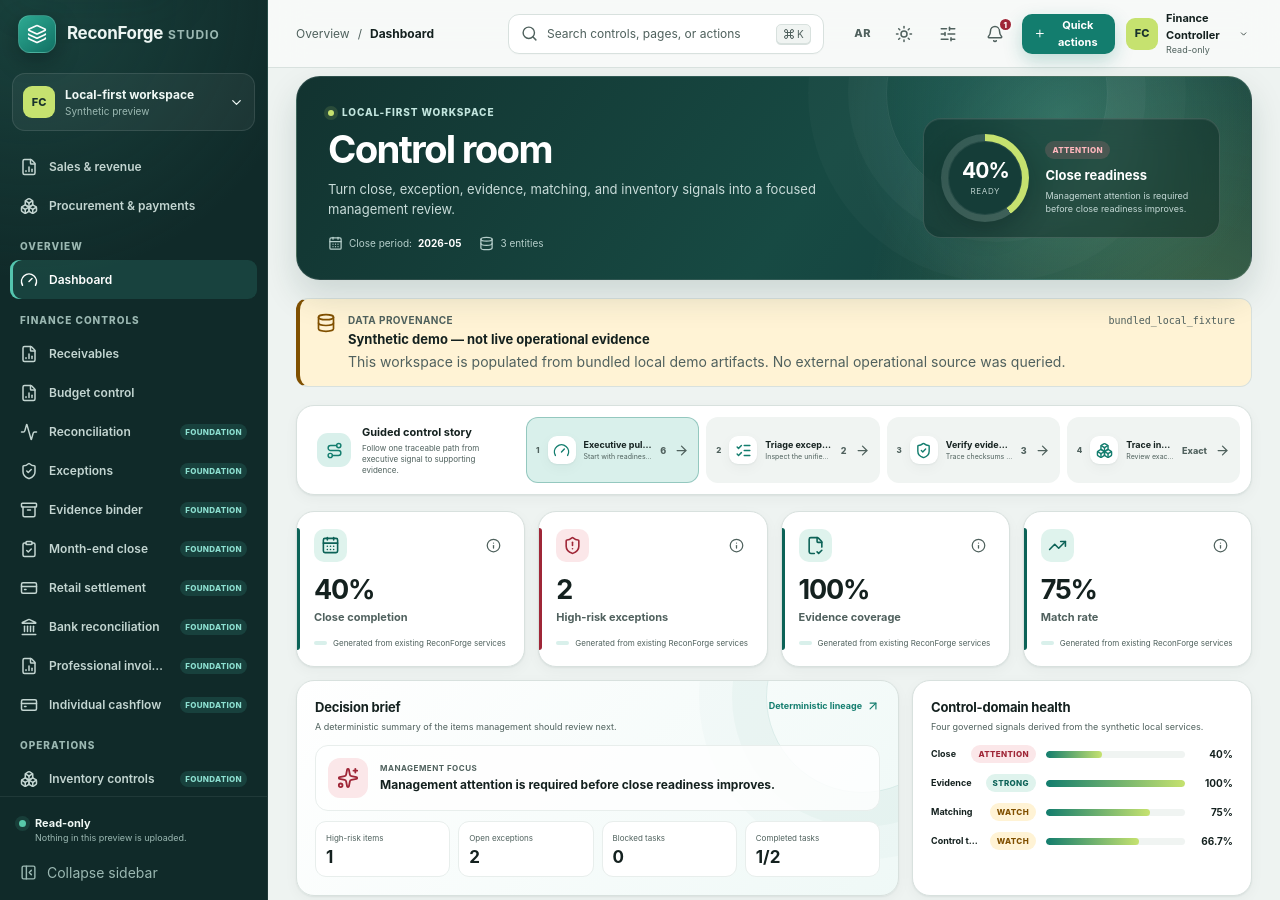
Test: navigates to the governed exception review boundary without a synthetic fallback
(page scrolled)
Click the button "Exceptions Foundation" at (134, 470), box x1=10 y1=451 x2=257 y2=490
(page scrolled)
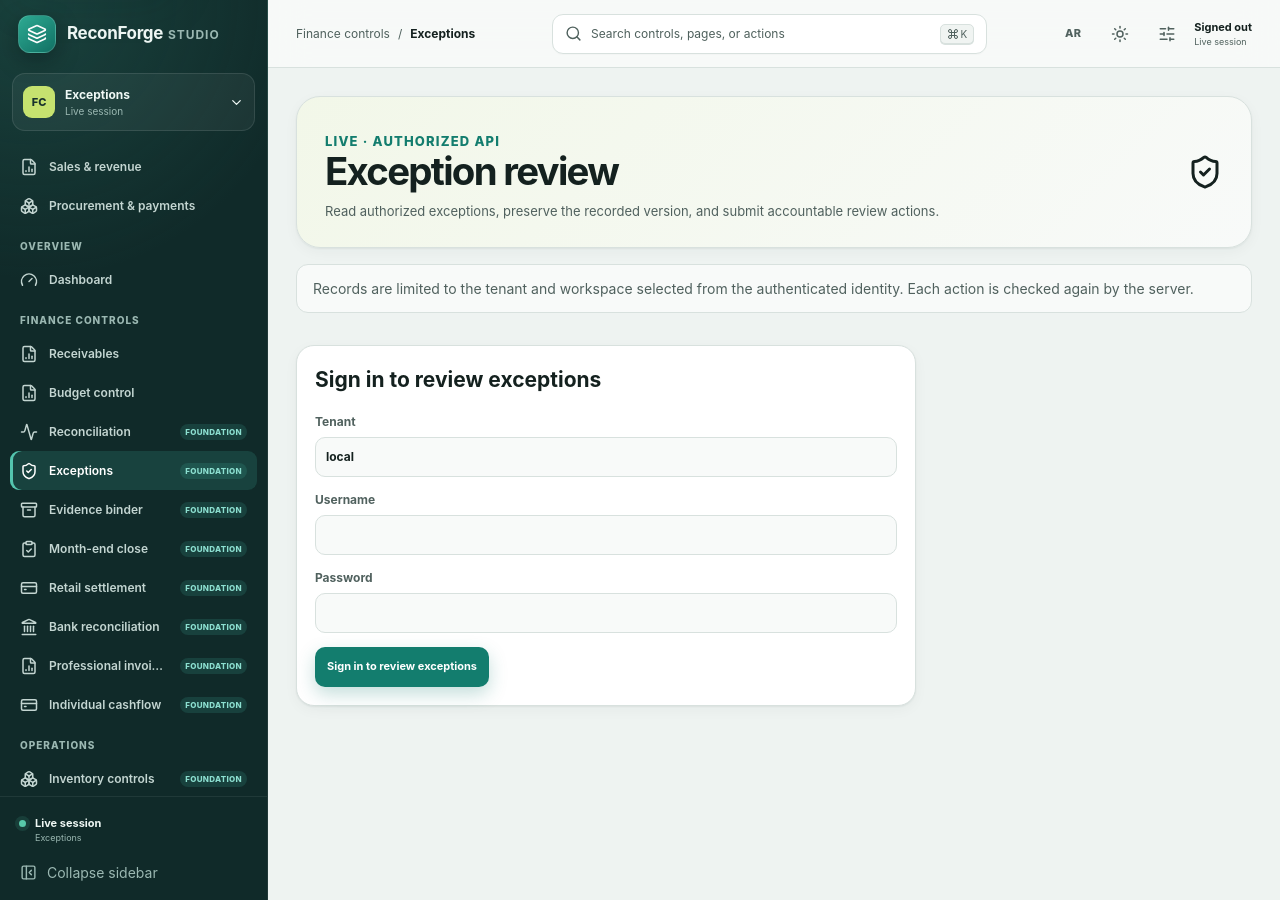
Expected: the heading "Exception review" is shown, x1=325 y1=148 x2=618 y2=194
Expected: the text "Records are limited to the tenant and workspace selected from the authenticated identity. Each action is checked again b" is shown, x1=313 y1=280 x2=1194 y2=297
